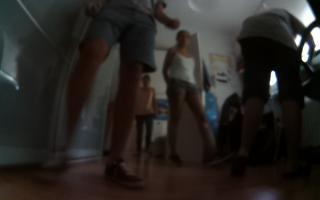person: (32, 1, 180, 191), (233, 3, 317, 177), (161, 28, 228, 172), (130, 70, 159, 164)
